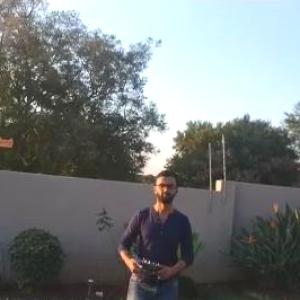follow: (107, 163, 200, 299)
